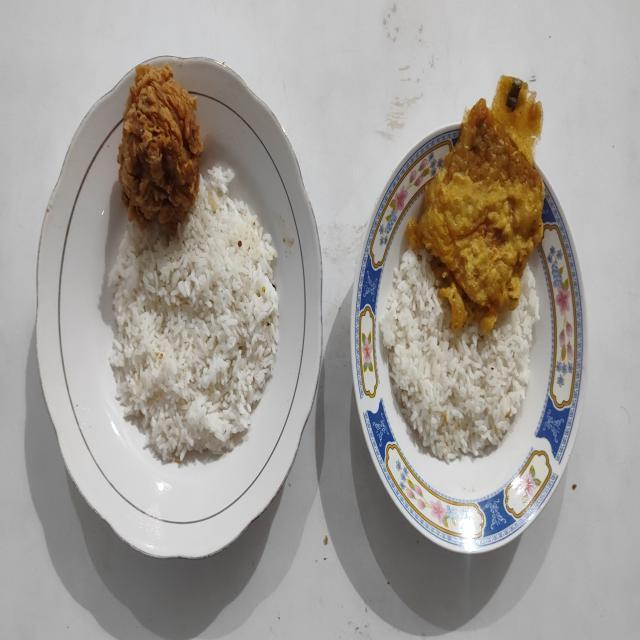nasi_putih: (108, 167, 279, 463), (379, 249, 539, 463)
